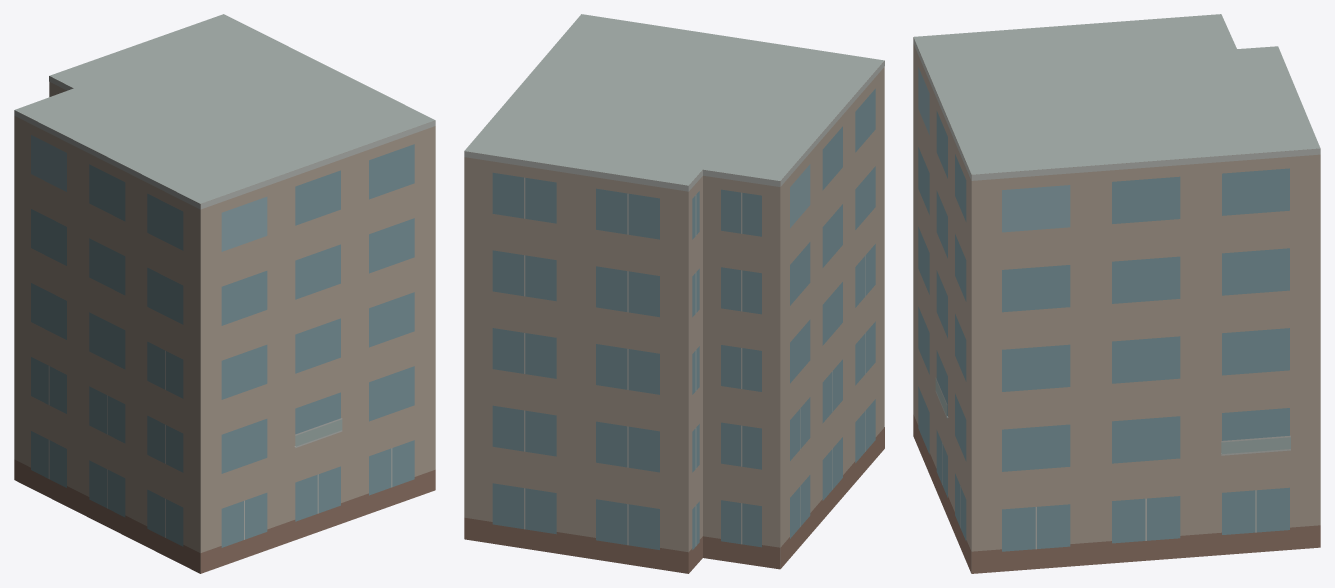
The model's file is survey-upis-32943331.glb.
The picture shows the model from 3 angles, left to right: view 1: azimuth 30°, elevation 25°; view 2: azimuth 150°, elevation 25°; view 3: azimuth 270°, elevation 25°; orthographic projection. The views are drawn at different scales.
Parts seen in each view (by area): view 1: survey-upis-32943331.tmp; view 2: survey-upis-32943331.tmp; view 3: survey-upis-32943331.tmp.
Part boxes in pixels (left/top/right/bottom): survey-upis-32943331.tmp: left=14, top=14, right=435, bottom=573; survey-upis-32943331.tmp: left=464, top=14, right=884, bottom=573; survey-upis-32943331.tmp: left=913, top=14, right=1320, bottom=573.
Bounding box in the file's own units: 13.66 × 15.8 × 14.62.
